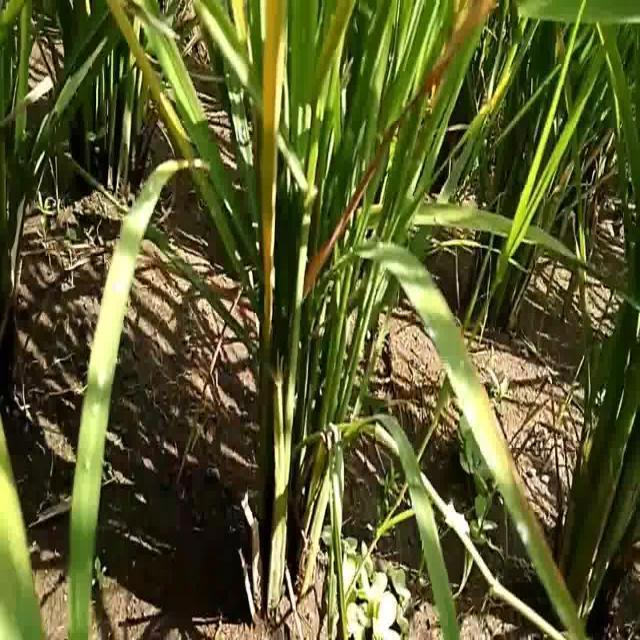Rice Tungro: (301, 9, 499, 306), (105, 3, 187, 162), (252, 5, 290, 311)
